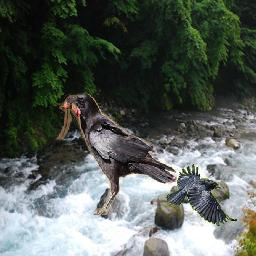Crow: (53, 89, 178, 216), (167, 164, 238, 227)
